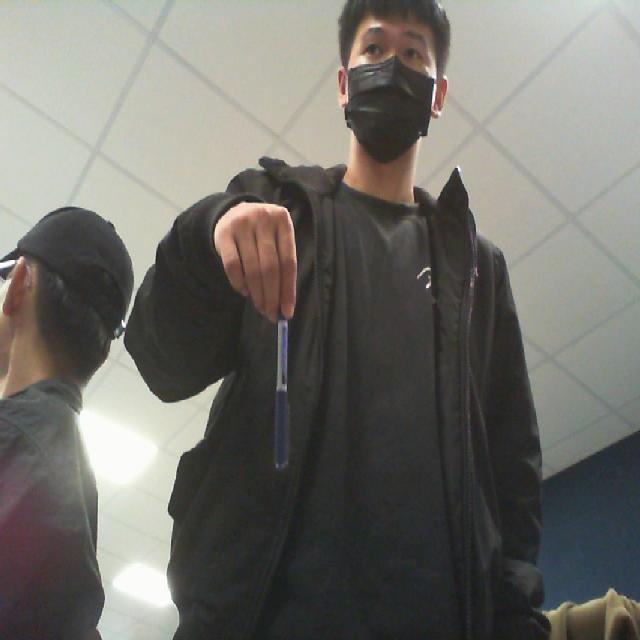Pen: (269, 304, 305, 509)
